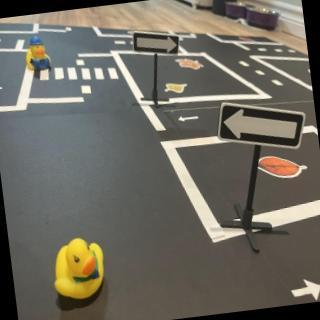duck_regular: (48, 234, 112, 305)
duck_specialty: (23, 32, 55, 74)
road_crosswalk: (38, 58, 123, 91)
road_oneway: (289, 274, 320, 306), (177, 113, 202, 126)
sign_oneway_left: (215, 96, 310, 160)
sign_oneway_right: (132, 27, 184, 62)
